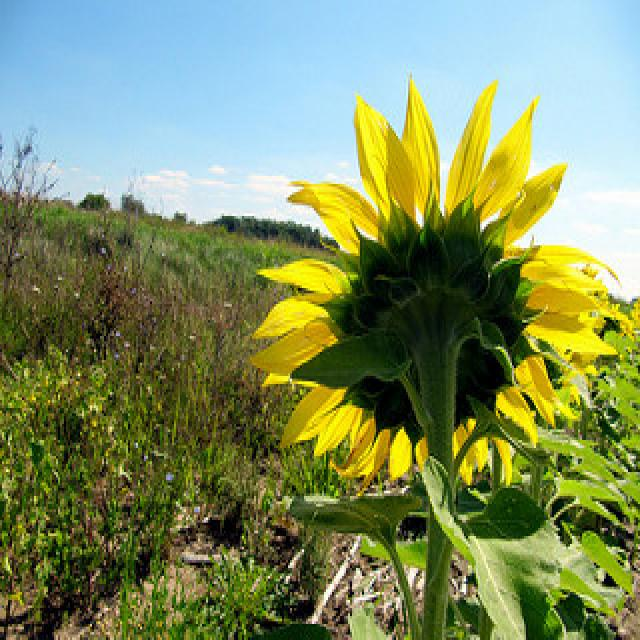sunflower: (257, 77, 619, 500)
